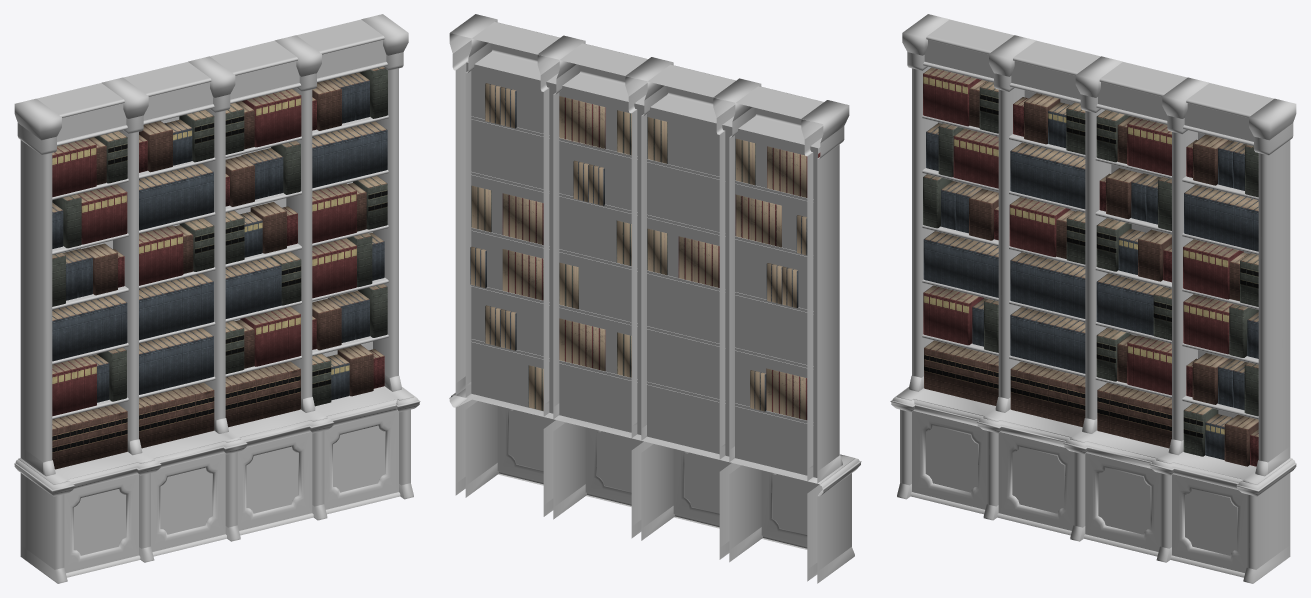
Rendered from Library.fbx.
The picture shows the model from 3 angles, left to right: view 1: azimuth 30°, elevation 25°; view 2: azimuth 150°, elevation 25°; view 3: azimuth 330°, elevation 25°; orthographic projection.
Parts seen in each view (by area): view 1: bottom_lp.001, Cube.043, Cube.069, Cube.034, Cube.048, Cube.028, Cube.072, Cube.057, Cube.026, Cube.033, Cube.042, Cube.056 (+13 smaller); view 2: bottom_lp.001, Cube.048, Cube.069, Cube.076, Cube.022, Cube.034, Cube.057, Cube.046, Cube.026, Cube.053, Cube.023, Cube.037 (+5 smaller); view 3: bottom_lp.001, Cube.048, Cube.069, Cube.034, Cube.043, Cube.042, Cube.033, Cube.028, Cube.046, Cube.056, Cube.026, Cube.072 (+13 smaller).
Boxes of the visible parts, <box> form: bottom_lp.001: <box>14,14,420,583</box>; Cube.043: <box>225,252,301,318</box>; Cube.069: <box>312,176,387,243</box>; Cube.034: <box>225,306,300,374</box>; Cube.048: <box>139,218,214,285</box>; Cube.028: <box>52,294,127,361</box>; Cube.072: <box>312,121,387,188</box>; Cube.057: <box>52,184,127,248</box>; Cube.026: <box>52,347,126,416</box>; Cube.033: <box>139,328,213,394</box>; Cube.042: <box>139,273,213,340</box>; Cube.056: <box>139,163,213,230</box>; bottom_lp.001: <box>449,14,861,583</box>; Cube.048: <box>647,228,719,287</box>; Cube.069: <box>471,185,543,244</box>; Cube.076: <box>735,138,820,197</box>; Cube.022: <box>559,96,631,155</box>; Cube.034: <box>559,318,631,377</box>; Cube.057: <box>735,194,807,255</box>; Cube.046: <box>470,246,543,300</box>; Cube.026: <box>750,368,807,420</box>; Cube.053: <box>766,263,798,307</box>; Cube.023: <box>485,83,516,128</box>; Cube.037: <box>485,305,516,350</box>; bottom_lp.001: <box>890,14,1296,583</box>; Cube.048: <box>1009,197,1085,264</box>; Cube.069: <box>1183,239,1258,306</box>; Cube.034: <box>1096,328,1171,395</box>; Cube.043: <box>1096,273,1171,340</box>; Cube.042: <box>1010,252,1085,318</box>; Cube.033: <box>1010,307,1085,373</box>; Cube.028: <box>923,231,998,297</box>; Cube.046: <box>1183,294,1258,358</box>; Cube.056: <box>1010,142,1085,209</box>; Cube.026: <box>923,285,998,352</box>; Cube.072: <box>1184,185,1258,251</box>.
Size of the model in its own units: 3.84 by 4.51 by 0.6787.
